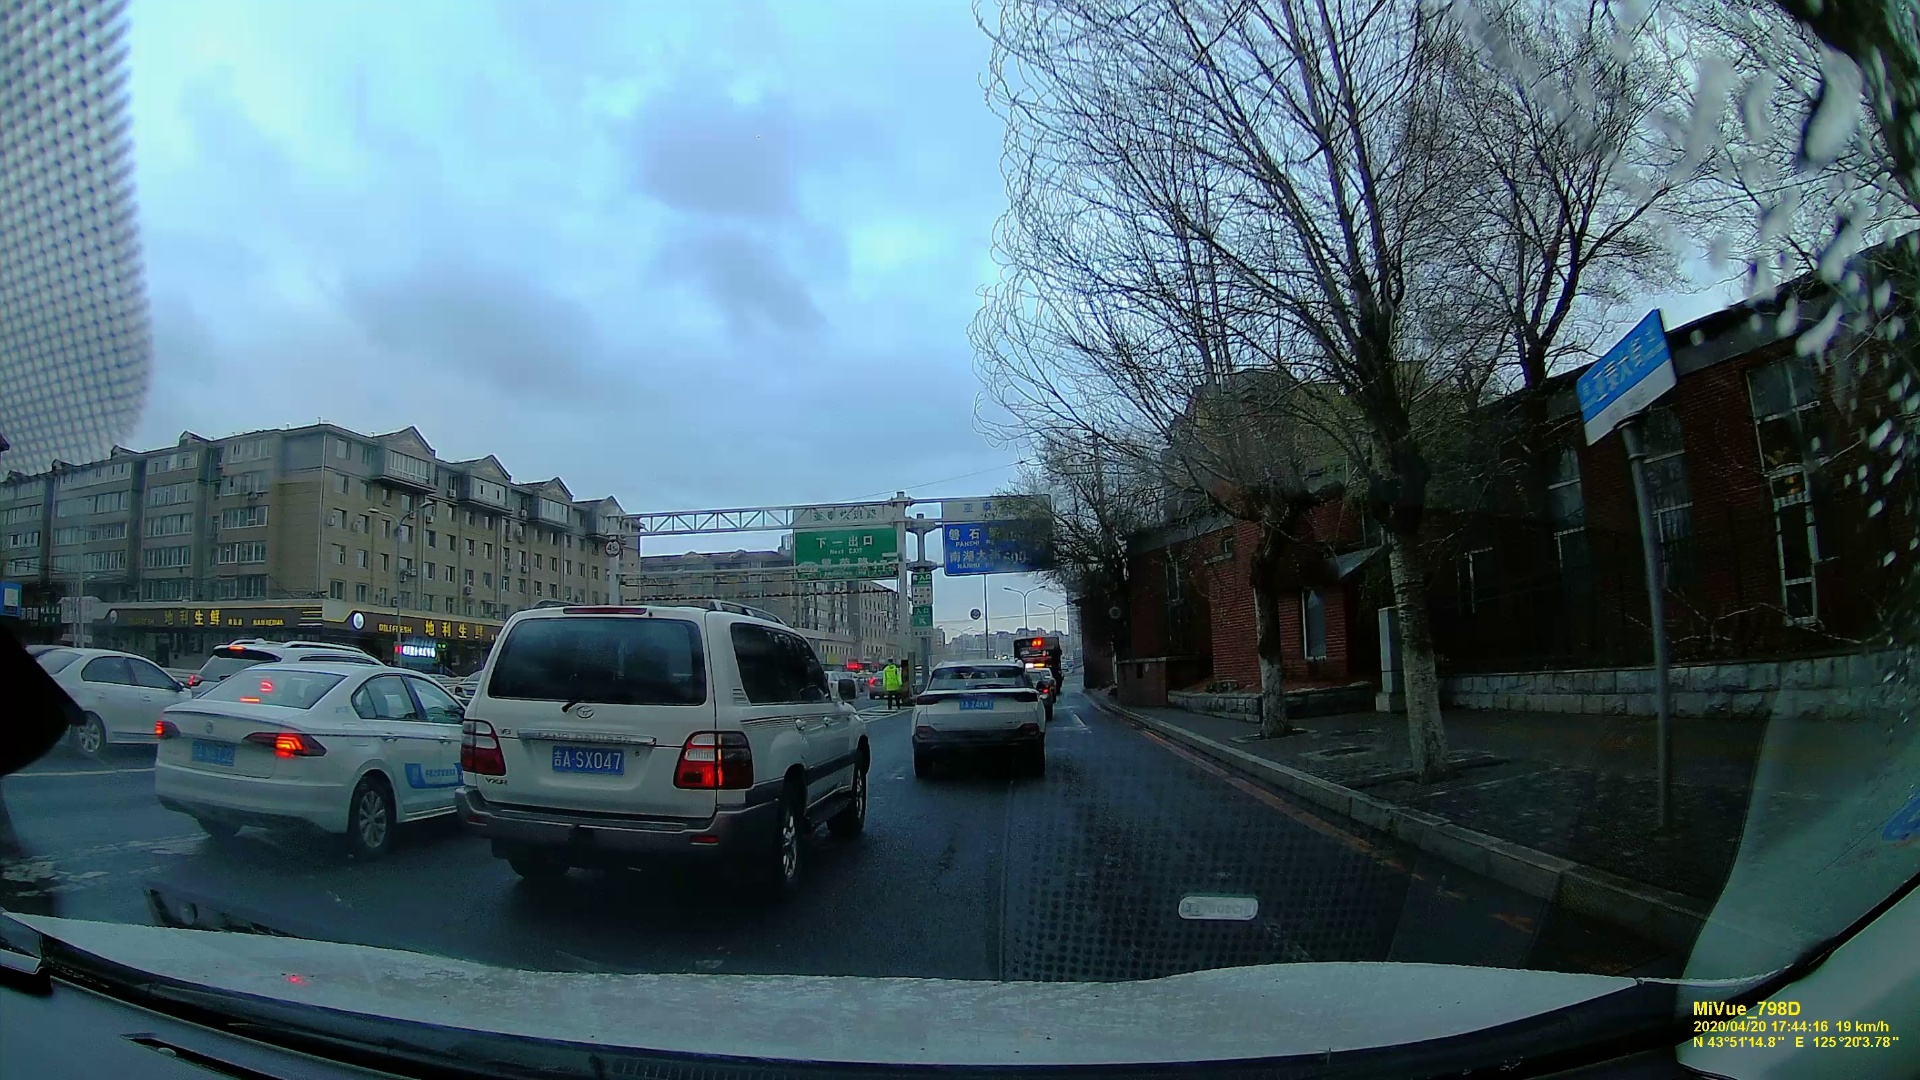person: (882, 656, 901, 712)
traffic_sign: (1568, 324, 1672, 444), (940, 496, 1052, 569), (789, 509, 891, 580), (912, 572, 933, 633)
vehicle: (447, 586, 882, 865), (151, 634, 457, 859), (908, 658, 1049, 770), (29, 646, 172, 752)
